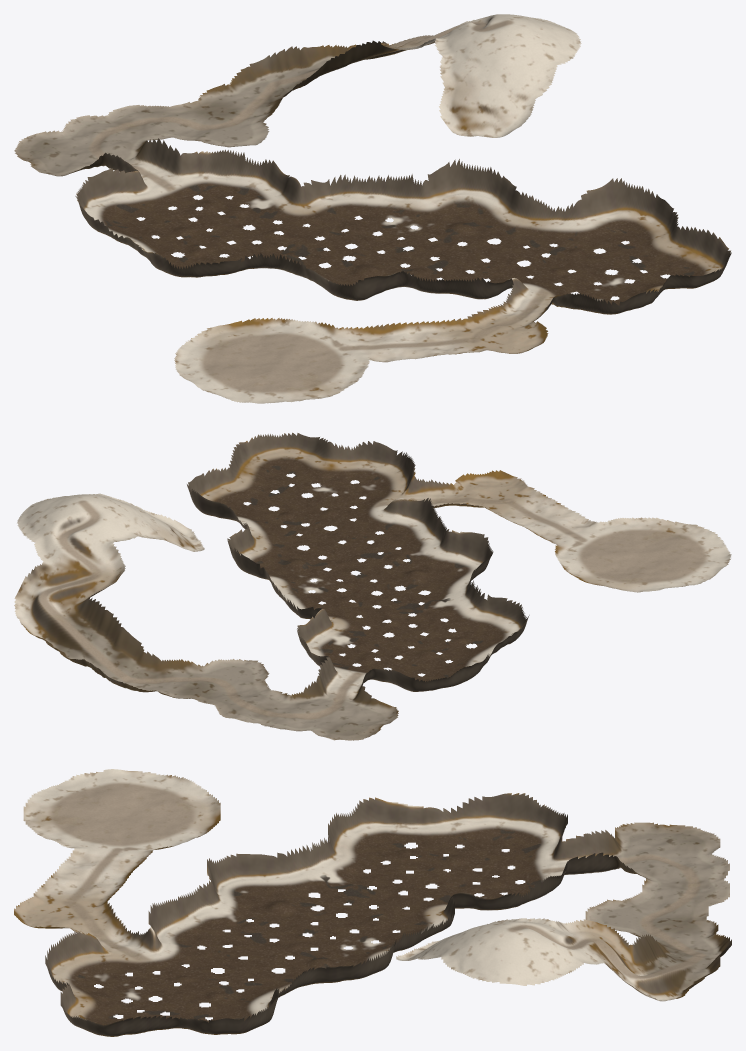
File: TerrenoCaminable.glb
The picture shows the model from 3 angles, top to bottom: view 1: azimuth 30°, elevation 25°; view 2: azimuth 150°, elevation 25°; view 3: azimuth 270°, elevation 25°; orthographic projection. The views are drawn at different scales.
Parts seen in each view (by area): view 1: TerrenoCaminable; view 2: TerrenoCaminable; view 3: TerrenoCaminable.
Boxes of the visible parts, left/top/right/bottom form: TerrenoCaminable: left=14, top=14, right=731, bottom=403; TerrenoCaminable: left=14, top=432, right=731, bottom=740; TerrenoCaminable: left=14, top=769, right=731, bottom=1036.
Size of the model in its own units: 299 by 51.57 by 318.
1 material, 1 textured.
